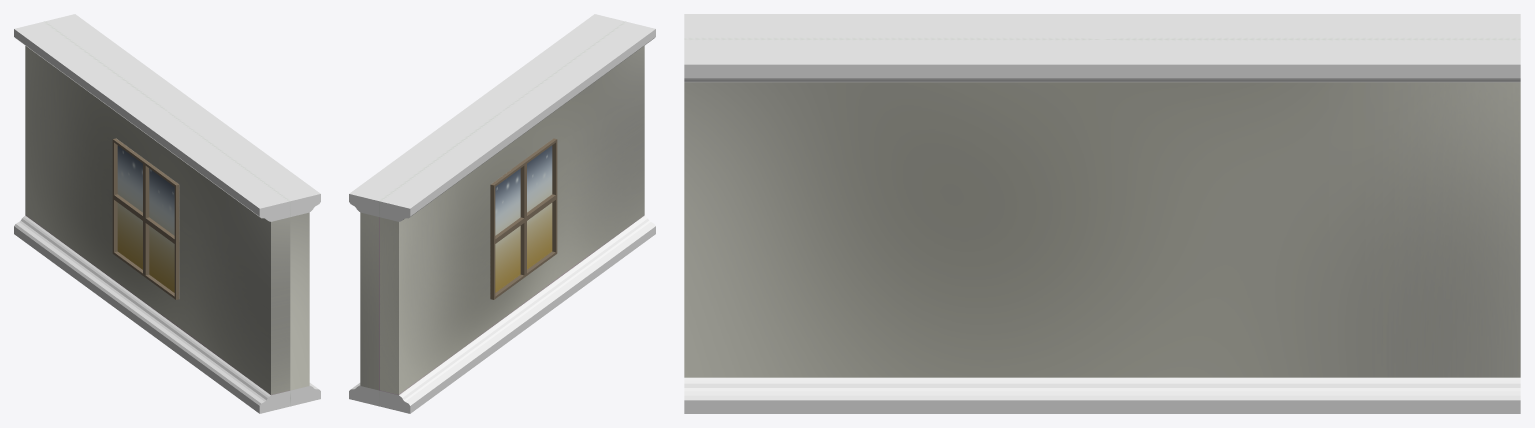
Rendered from Wall2.fbx.
The picture shows the model from 3 angles, left to right: view 1: azimuth 30°, elevation 25°; view 2: azimuth 150°, elevation 25°; view 3: azimuth 270°, elevation 25°; orthographic projection. The views are drawn at different scales.
Visible parts, largest first — view 1: Cube, Cube.002; view 2: Cube, Cube.002; view 3: Cube.
Boxes of the visible parts, x1=… form: Cube: x1=14, y1=14, x2=320, y2=413; Cube.002: x1=112, y1=138, x2=179, y2=299; Cube: x1=349, y1=14, x2=655, y2=413; Cube.002: x1=490, y1=138, x2=557, y2=299; Cube: x1=684, y1=14, x2=1520, y2=413.
Bounding box in the file's own units: 201 × 645 × 1400.
